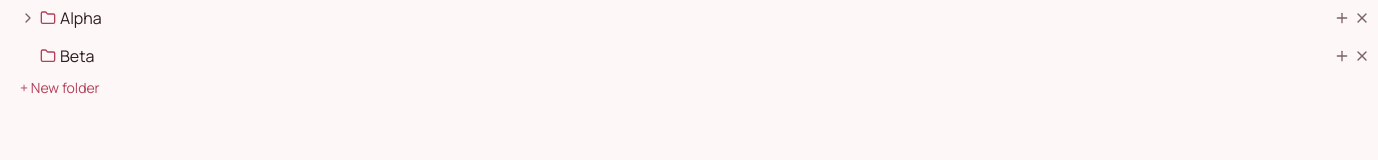
FolderTree › expand/collapse › shows child folder after clicking the expand chevron
Click the button named "Toggle folder expansion".
click(28, 18)  # box [20,10,36,26]
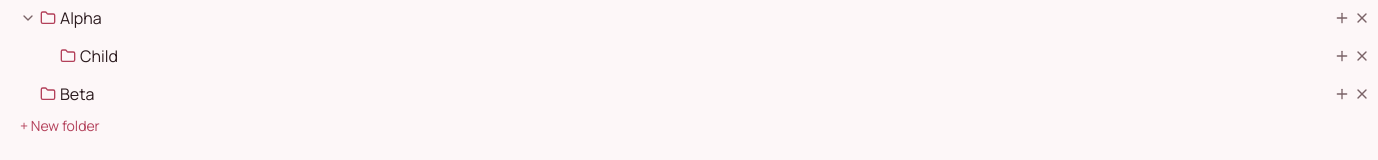
Expected: the text "Child" is shown, [80,45,118,67]
